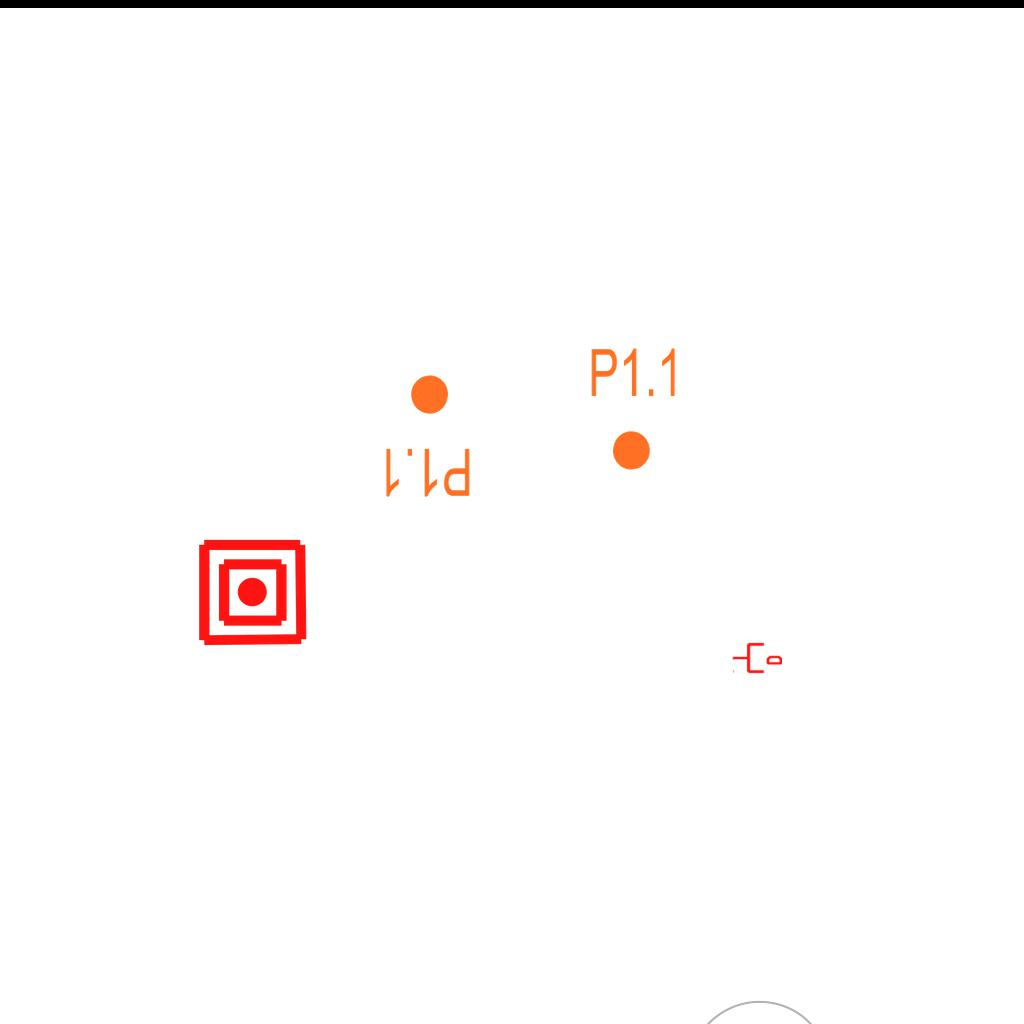Datenanschluss_einfach: (732, 641, 782, 675)
Downlight_LED_Einbauleuchten_Flur: (588, 345, 681, 473), (380, 372, 473, 500)
NAM-Nichtautomatischer_Melder: (196, 536, 309, 649)
